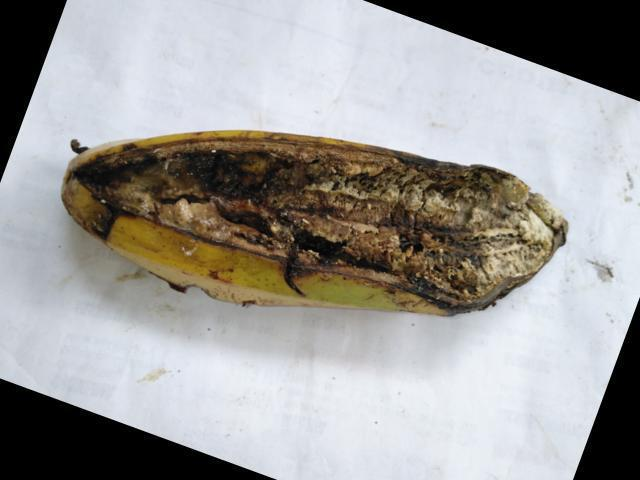rotten: (46, 98, 566, 320)
